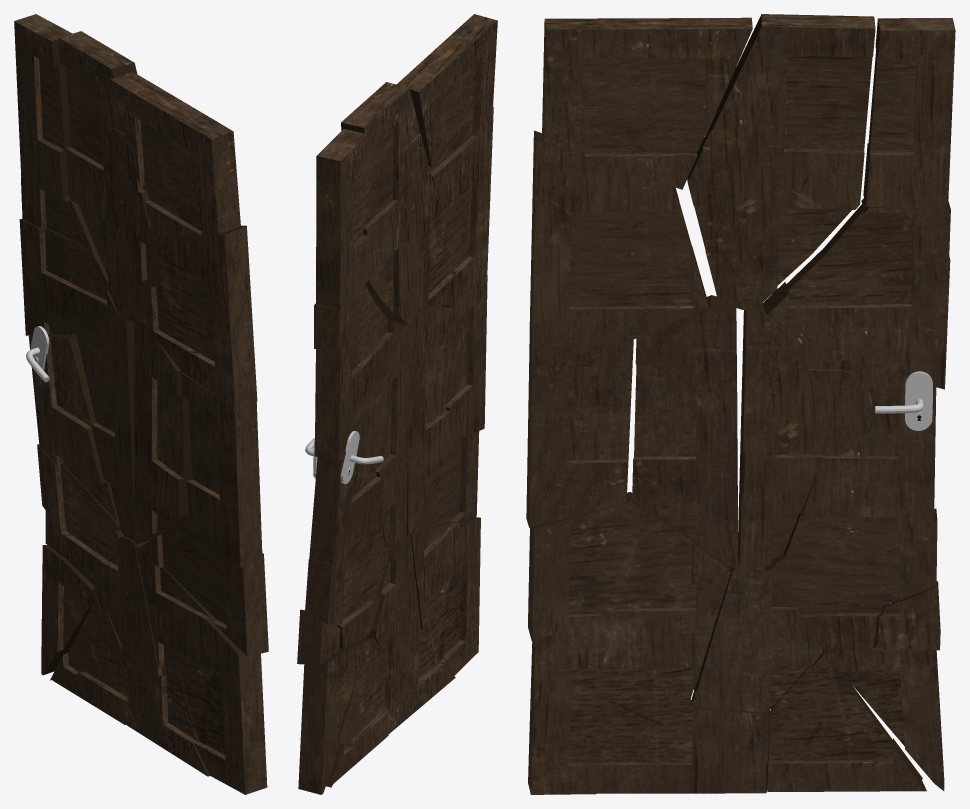
The model's file is door_break.fbx.
3 views of the same model, side by side, from view 1: azimuth 30°, elevation 25°; view 2: azimuth 150°, elevation 25°; view 3: azimuth 270°, elevation 25° (orthographic). The views are drawn at different scales.
Parts seen in each view (by area): view 1: сломанная дверь.012, сломанная дверь.022, сломанная дверь.007, сломанная дверь.011, сломанная дверь.016, сломанная дверь, сломанная дверь.019, сломанная дверь.024, сломанная дверь.015, сломанная дверь.014, сломанная дверь.008, сломанная дверь.010 (+9 smaller); view 2: сломанная дверь.012, сломанная дверь.011, сломанная дверь.022, сломанная дверь.007, сломанная дверь.024, сломанная дверь, сломанная дверь.014, сломанная дверь.008, сломанная дверь.021, сломанная дверь.015, сломанная дверь.016, сломанная дверь.020 (+9 smaller); view 3: сломанная дверь.012, сломанная дверь.007, сломанная дверь.022, сломанная дверь.011, сломанная дверь, сломанная дверь.015, сломанная дверь.016, сломанная дверь.008, сломанная дверь.019, сломанная дверь.014, сломанная дверь.024, сломанная дверь.010 (+9 smaller).
Part boxes in pixels (box(x1,y1,x2,y2)): сломанная дверь.012: box(58, 31, 160, 320); сломанная дверь.022: box(135, 543, 267, 794); сломанная дверь.007: box(146, 225, 257, 408); сломанная дверь.011: box(110, 72, 240, 235); сломанная дверь.016: box(181, 372, 262, 567); сломанная дверь: box(134, 318, 192, 543); сломанная дверь.019: box(138, 516, 268, 656); сломанная дверь.024: box(14, 14, 72, 197); сломанная дверь.015: box(75, 316, 134, 539); сломанная дверь.014: box(19, 218, 119, 335); сломанная дверь.008: box(28, 333, 118, 521); сломанная дверь.010: box(94, 536, 166, 676); сломанная дверь.012: box(341, 82, 436, 325); сломанная дверь.011: box(396, 14, 497, 199); сломанная дверь.022: box(410, 517, 480, 675); сломанная дверь.007: box(422, 106, 493, 305); сломанная дверь.024: box(316, 129, 369, 309); сломанная дверь: box(406, 305, 451, 535); сломанная дверь.014: box(314, 304, 400, 461); сломанная дверь.008: box(309, 410, 386, 564); сломанная дверь.021: box(298, 637, 374, 794); сломанная дверь.015: box(366, 322, 409, 543); сломанная дверь.016: box(442, 275, 487, 441); сломанная дверь.020: box(305, 546, 397, 624); сломанная дверь.012: box(687, 14, 875, 309); сломанная дверь.007: box(529, 130, 708, 347); сломанная дверь.022: box(528, 564, 731, 794); сломанная дверь.011: box(542, 17, 752, 189); сломанная дверь: box(632, 295, 738, 568); сломанная дверь.015: box(738, 303, 857, 568); сломанная дверь.016: box(526, 337, 633, 527); сломанная дверь.008: box(784, 363, 936, 557); сломанная дверь.019: box(528, 492, 729, 641); сломанная дверь.014: box(762, 250, 950, 389); сломанная дверь.024: box(863, 18, 955, 208); сломанная дверь.010: box(691, 559, 823, 712).
Bounding box in the file's own units: 23.57 × 191 × 97.57.
